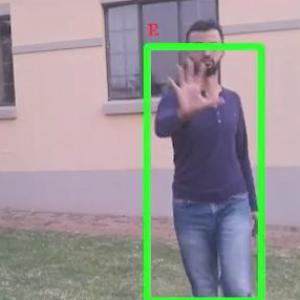follow_hand: (163, 54, 226, 115)
